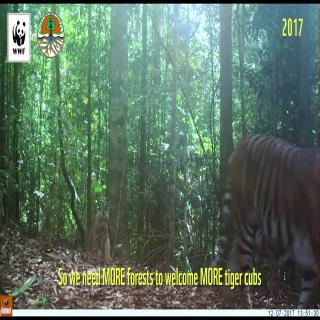Tiger: (84, 200, 111, 263)
